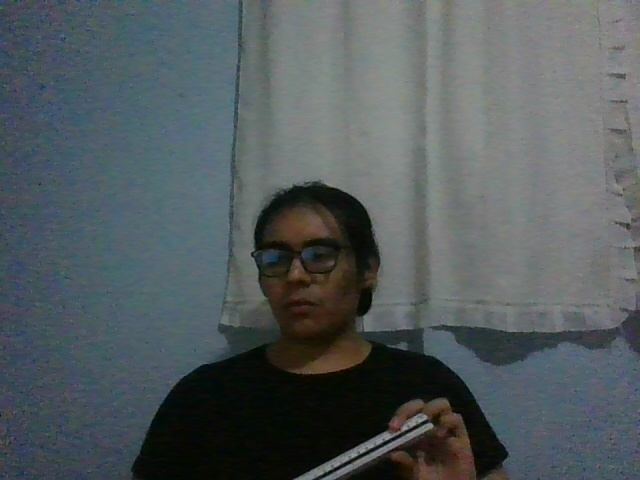regla: (291, 413, 435, 480)
